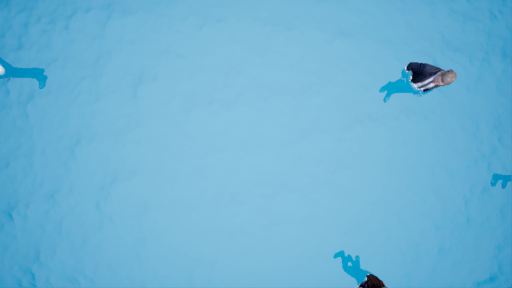person: (376, 57, 458, 107), (333, 239, 393, 288)
